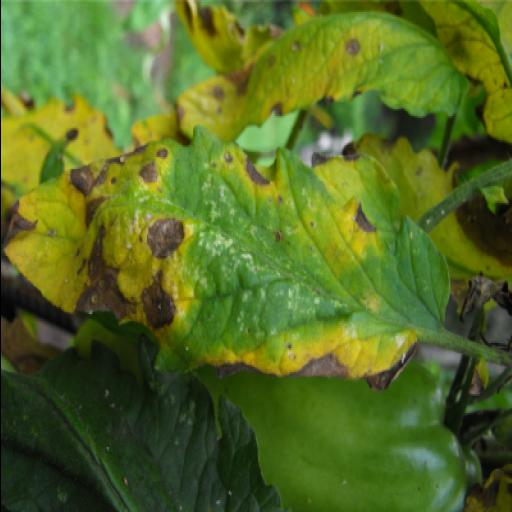disease_tomato: (0, 134, 453, 394)
